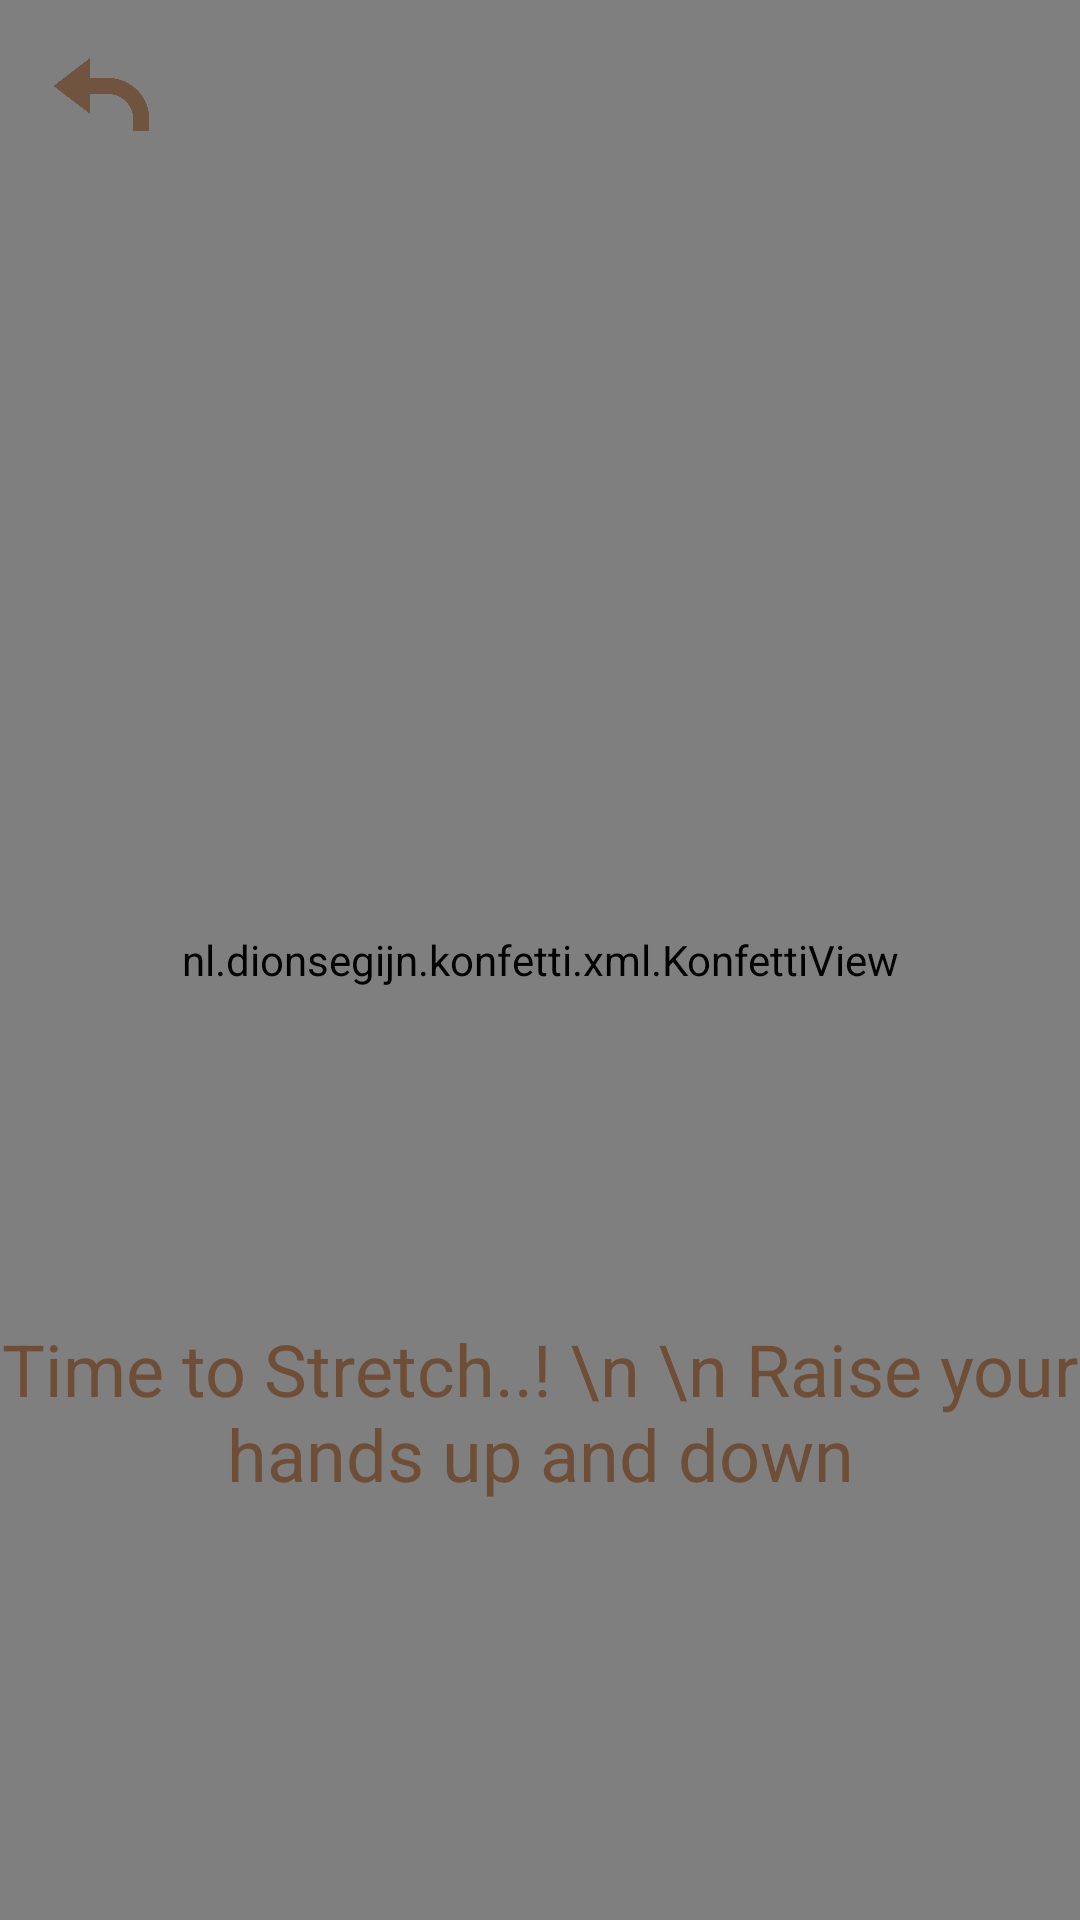

Icon bounding boxes for this 1080w x 1920h phone screenshot, format [left=x1, top=y1, right=x2, bottom=y2]:
back arrow: [left=54, top=58, right=149, bottom=131]
